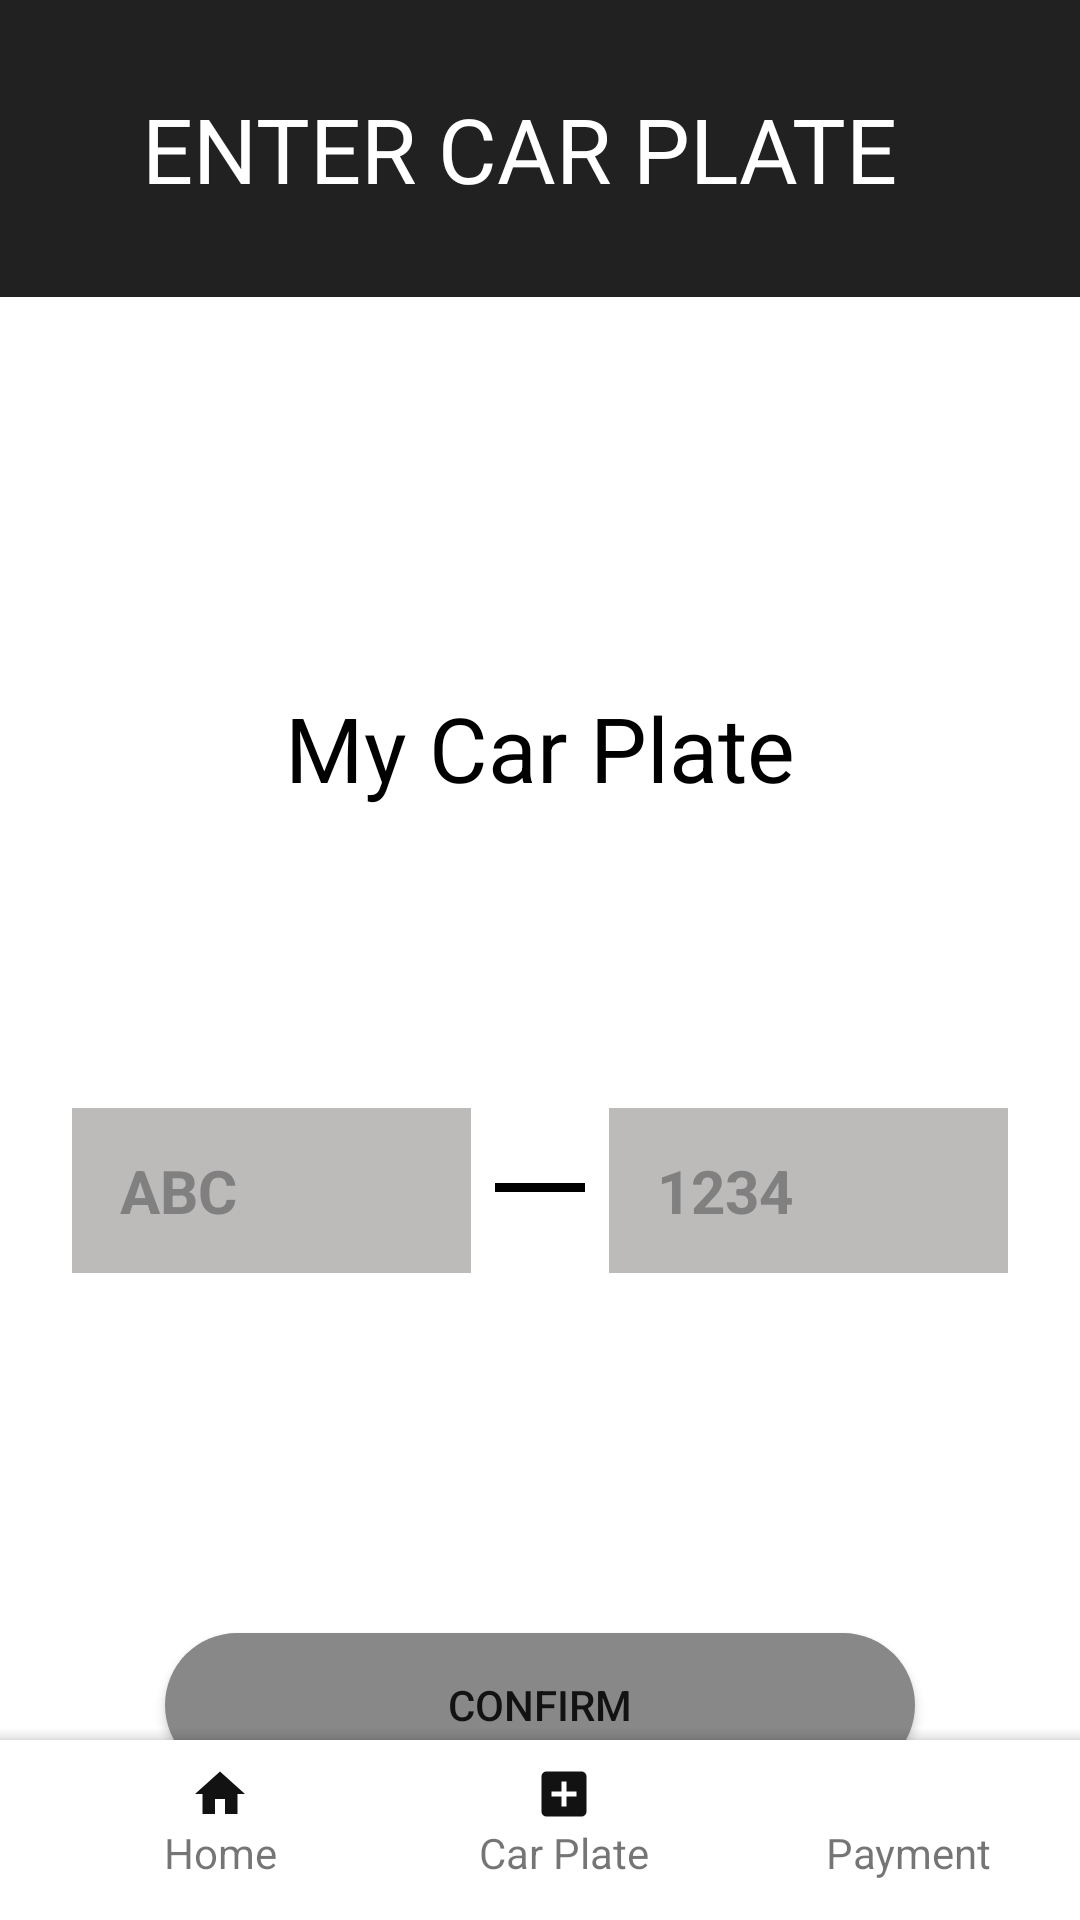

Point at icon controls on the screen. Image size 1080 × 1920, points as (x=x, y=y).
add box: (x=564, y=1794)
